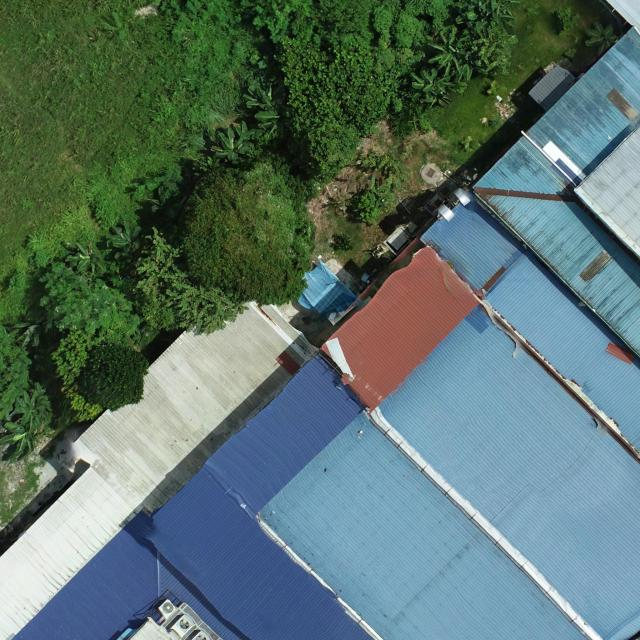Tree: (275, 36, 427, 183), (180, 162, 320, 310), (134, 225, 248, 335), (38, 261, 138, 337), (50, 325, 117, 424), (73, 342, 150, 412), (0, 382, 54, 465), (464, 22, 518, 77), (244, 79, 292, 138), (427, 25, 470, 79), (454, 0, 520, 30), (352, 183, 397, 225), (409, 65, 456, 105), (65, 241, 113, 277), (210, 127, 253, 163), (105, 219, 143, 259), (584, 20, 618, 55), (148, 186, 184, 218), (232, 121, 266, 142)
